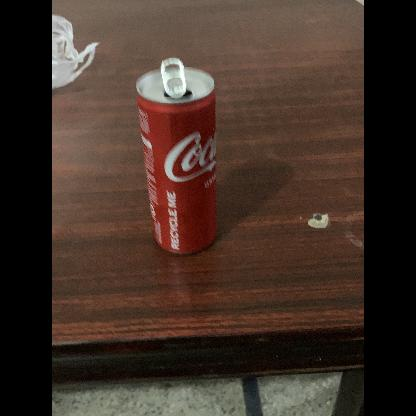Lid_Open: (154, 52, 200, 102)
Tin_Can: (129, 44, 226, 266)
